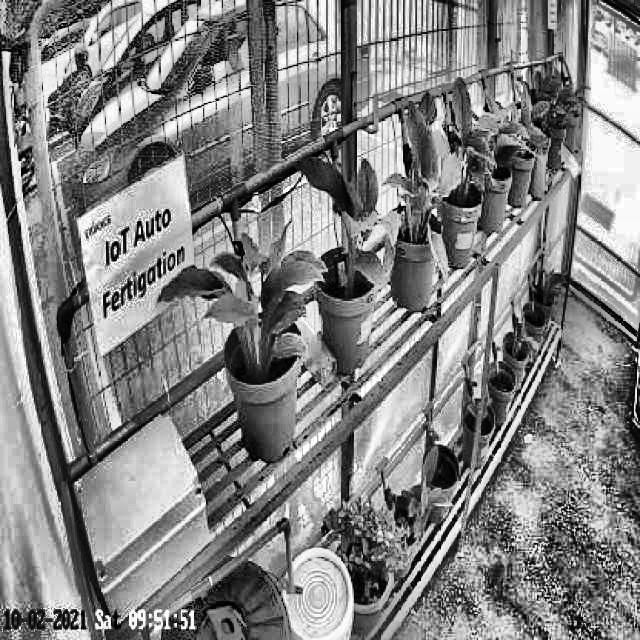plants: (160, 220, 326, 371), (296, 143, 398, 306), (382, 87, 462, 275), (427, 80, 496, 208)
